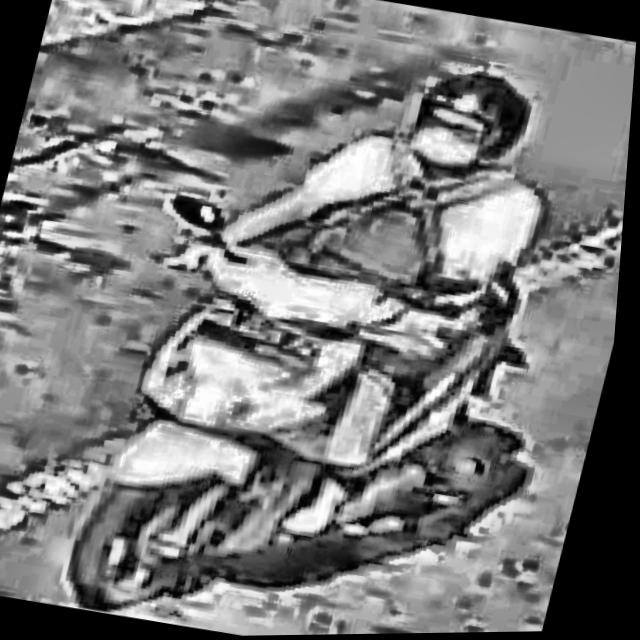motorcycle: (30, 194, 556, 639)
